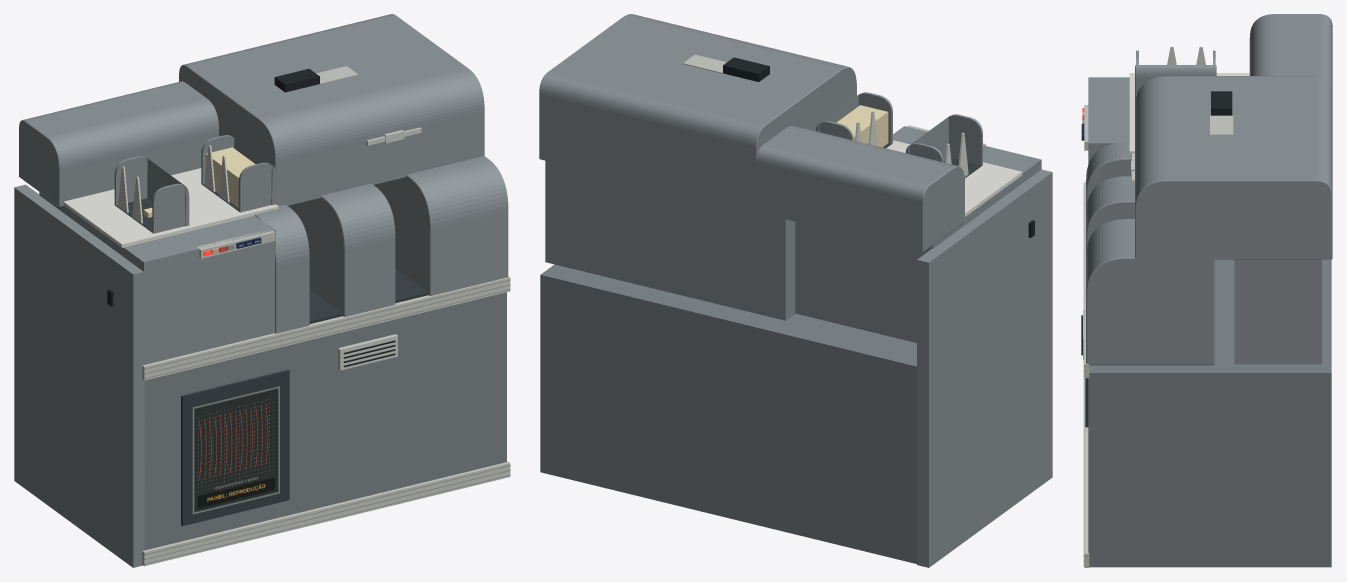
The model's file is 514-reprodutora.glb.
3 views of the same model, side by side, from view 1: azimuth 30°, elevation 25°; view 2: azimuth 150°, elevation 25°; view 3: azimuth 270°, elevation 25° (orthographic). The views are drawn at different scales.
Visible parts, largest first — view 1: 514-reprodutora_peca_0, 514-reprodutora_peca_13, 514-reprodutora_peca_32, 514-reprodutora_peca_20, 514-reprodutora_peca_30, 514-reprodutora_peca_28, 514-reprodutora_peca_27, painel_p514pb, 514-reprodutora_peca_1, 514-reprodutora_peca_5, 514-reprodutora_peca_14, 514-reprodutora_peca_31 (+17 smaller); view 2: 514-reprodutora_peca_0, 514-reprodutora_peca_13, 514-reprodutora_peca_32, 514-reprodutora_peca_21, 514-reprodutora_peca_30, 514-reprodutora_peca_20, 514-reprodutora_peca_31, 514-reprodutora_peca_41, p514hop, 514-reprodutora_peca_35, 514-reprodutora_peca_39, 514-reprodutora_peca_47; view 3: 514-reprodutora_peca_0, 514-reprodutora_peca_32, 514-reprodutora_peca_28, 514-reprodutora_peca_21, 514-reprodutora_peca_30, 514-reprodutora_peca_20, 514-reprodutora_peca_27, 514-reprodutora_peca_26, 514-reprodutora_peca_39, 514-reprodutora_peca_1, 514-reprodutora_peca_31, 514-reprodutora_peca_35 (+4 smaller).
Part boxes in pixels (bbox=[...]): 514-reprodutora_peca_0: bbox=[144, 292, 506, 550]; 514-reprodutora_peca_13: bbox=[14, 184, 144, 567]; 514-reprodutora_peca_32: bbox=[179, 14, 484, 205]; 514-reprodutora_peca_20: bbox=[39, 192, 275, 364]; 514-reprodutora_peca_30: bbox=[19, 81, 218, 206]; 514-reprodutora_peca_28: bbox=[374, 156, 508, 295]; 514-reprodutora_peca_27: bbox=[288, 183, 395, 316]; painel_p514pb: bbox=[192, 386, 279, 514]; 514-reprodutora_peca_1: bbox=[142, 461, 510, 566]; 514-reprodutora_peca_5: bbox=[142, 276, 510, 380]; 514-reprodutora_peca_14: bbox=[181, 369, 289, 526]; 514-reprodutora_peca_31: bbox=[63, 168, 278, 247]; 514-reprodutora_peca_0: bbox=[540, 264, 917, 564]; 514-reprodutora_peca_13: bbox=[917, 169, 1052, 567]; 514-reprodutora_peca_32: bbox=[539, 14, 856, 211]; 514-reprodutora_peca_21: bbox=[545, 160, 795, 320]; 514-reprodutora_peca_30: bbox=[728, 125, 964, 252]; 514-reprodutora_peca_20: bbox=[795, 126, 1041, 342]; 514-reprodutora_peca_31: bbox=[886, 140, 1022, 216]; 514-reprodutora_peca_41: bbox=[948, 114, 982, 165]; p514hop: bbox=[836, 105, 888, 147]; 514-reprodutora_peca_35: bbox=[723, 57, 769, 81]; 514-reprodutora_peca_39: bbox=[905, 116, 949, 161]; 514-reprodutora_peca_47: bbox=[858, 92, 892, 144]; 514-reprodutora_peca_0: bbox=[1088, 259, 1331, 567]; 514-reprodutora_peca_32: bbox=[1135, 76, 1332, 259]; 514-reprodutora_peca_28: bbox=[1086, 219, 1214, 365]; 514-reprodutora_peca_21: bbox=[1234, 259, 1321, 364]; 514-reprodutora_peca_30: bbox=[1249, 14, 1332, 89]; 514-reprodutora_peca_20: bbox=[1088, 77, 1129, 163]; 514-reprodutora_peca_27: bbox=[1086, 176, 1134, 254]; 514-reprodutora_peca_26: bbox=[1086, 142, 1131, 212]; 514-reprodutora_peca_39: bbox=[1135, 65, 1216, 102]; 514-reprodutora_peca_1: bbox=[1084, 378, 1089, 567]; 514-reprodutora_peca_31: bbox=[1129, 73, 1249, 153]; 514-reprodutora_peca_35: bbox=[1211, 91, 1232, 115].
Bounding box in the file's own units: 45.8 × 45.38 × 25.8.
27 materials, 4 textured.
